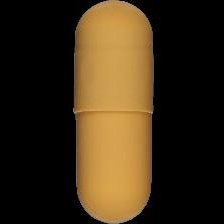63187-591: (0, 0, 224, 224)
